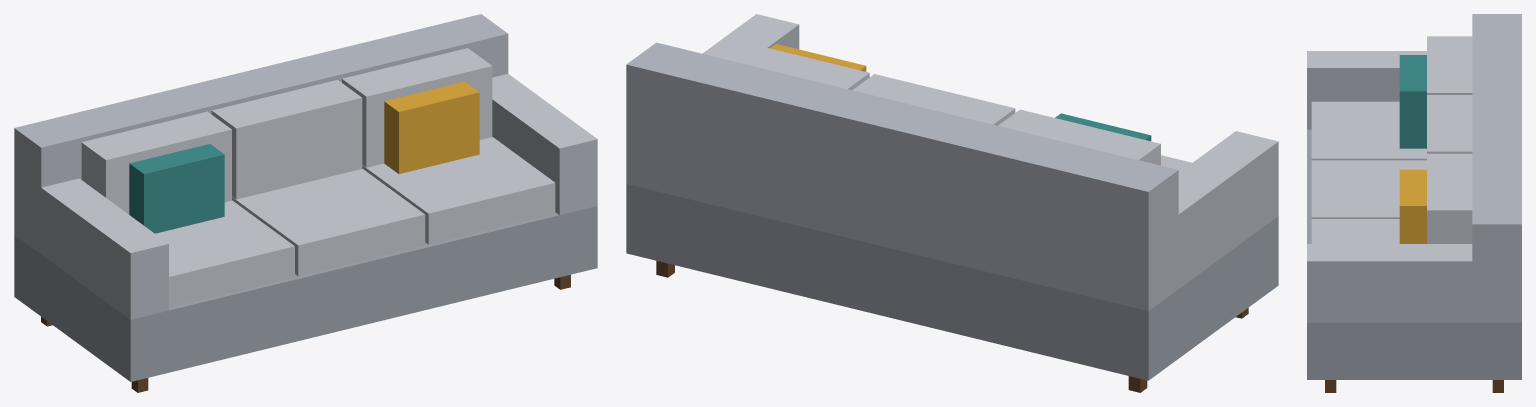
Rendered from modern_sofa.glb.
The picture shows the model from 3 angles, left to right: view 1: azimuth 30°, elevation 25°; view 2: azimuth 150°, elevation 25°; view 3: azimuth 270°, elevation 25°; orthographic projection. The views are drawn at different scales.
Parts seen in each view (by area): view 1: modern_sofa; view 2: modern_sofa; view 3: modern_sofa.
Part boxes in pixels (x1,y1,x2,y2): modern_sofa: (14, 14, 597, 392); modern_sofa: (626, 14, 1278, 392); modern_sofa: (1307, 14, 1521, 392).
Bounding box in the file's own units: 2.2 × 0.86 × 0.95.
